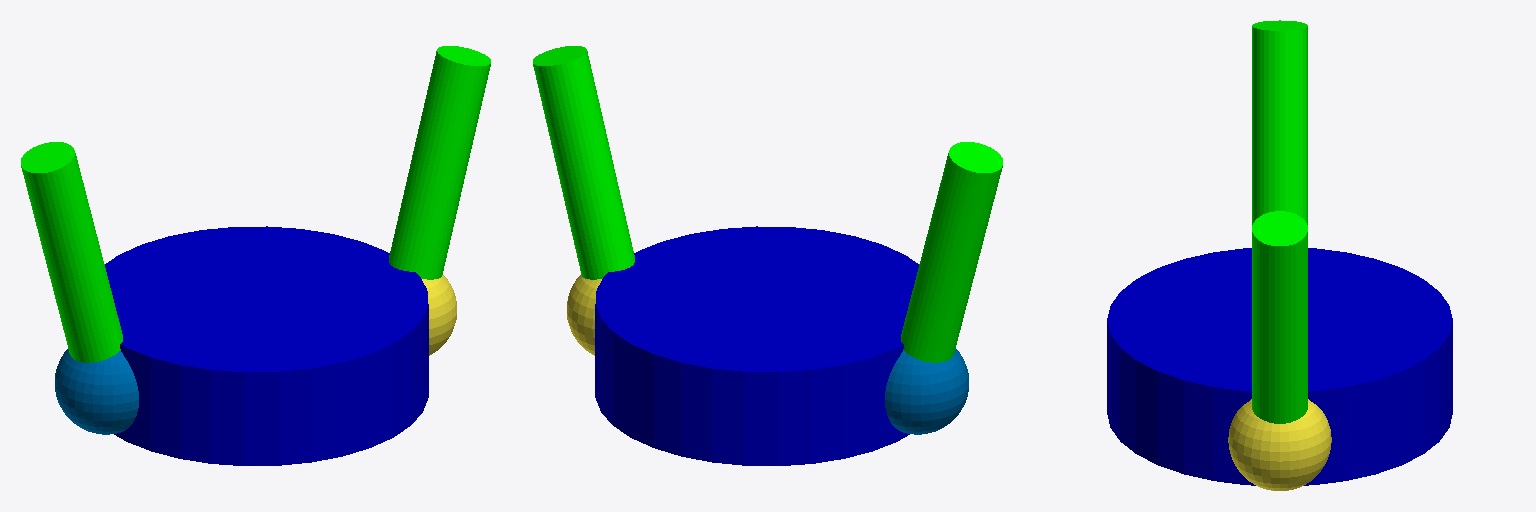
URDF robot description (gripper_2f_1j):
<?xml version='1.0' encoding='UTF-8'?>
<robot name="gripper_2f_1j">
  <link name="palm">
    <inertial>
      <origin xyz="0.0 0.0 0.0" rpy="0.0 -0.0 0.0"/>
      <mass value="1.0"/>
      <inertia ixx="1.0" ixy="0.0" ixz="0.0" iyy="1.0" iyz="0.0" izz="1.0"/>
    </inertial>
    <visual>
      <geometry>
        <cylinder radius="0.05" length="0.03"/>
      </geometry>
      <material name="blue"/>
      <origin xyz="0.0 0.0 0.0" rpy="0.0 -0.0 0.0"/>
    </visual>
    <collision>
      <geometry>
        <cylinder radius="0.05" length="0.03"/>
      </geometry>
      <origin xyz="0.0 0.0 0.0" rpy="0.0 0.0 0.0"/>
    </collision>
  </link>
  <link name="f11">
    <inertial>
      <origin xyz="0.0 0.0 0.0" rpy="0.0 -0.0 0.0"/>
      <mass value="1.0"/>
      <inertia ixx="1.0" ixy="0.0" ixz="0.0" iyy="1.0" iyz="0.0" izz="1.0"/>
    </inertial>
    <visual>
      <geometry>
        <cylinder radius="0.008106774049304117" length="0.07892180755967929"/>
      </geometry>
      <material name="green"/>
      <origin xyz="0.0 0.0 0.03946090377983964" rpy="0.0 -0.0 0.0"/>
    </visual>
    <collision>
      <geometry>
        <cylinder radius="0.008106774049304117" length="0.07892180755967929"/>
      </geometry>
      <origin xyz="0.0 0.0 0.05" rpy="0.0 0.0 0.0"/>
    </collision>
  </link>
  <link name="f21">
    <inertial>
      <origin xyz="0.0 0.0 0.0" rpy="0.0 -0.0 0.0"/>
      <mass value="1.0"/>
      <inertia ixx="1.0" ixy="0.0" ixz="0.0" iyy="1.0" iyz="0.0" izz="1.0"/>
    </inertial>
    <visual>
      <geometry>
        <cylinder radius="0.008106774049304117" length="0.07892180755967929"/>
      </geometry>
      <material name="green"/>
      <origin xyz="0.0 0.0 0.03946090377983964" rpy="0.0 -0.0 0.0"/>
    </visual>
    <collision>
      <geometry>
        <cylinder radius="0.008106774049304117" length="0.07892180755967929"/>
      </geometry>
      <origin xyz="0.0 0.0 0.05" rpy="0.0 0.0 0.0"/>
    </collision>
  </link>
  <link name="f11_base">
    <inertial>
      <origin xyz="0.0 0.0 0.0" rpy="0.0 -0.0 0.0"/>
      <mass value="1.0"/>
      <inertia ixx="1.0" ixy="0.0" ixz="0.0" iyy="1.0" iyz="0.0" izz="1.0"/>
    </inertial>
    <visual>
      <geometry>
        <sphere radius="0.015"/>
      </geometry>
      <origin xyz="0.0 0.0 0.0" rpy="0.0 -0.0 0.0"/>
    </visual>
  </link>
  <link name="f21_base">
    <inertial>
      <origin xyz="0.0 0.0 0.0" rpy="0.0 -0.0 0.0"/>
      <mass value="1.0"/>
      <inertia ixx="1.0" ixy="0.0" ixz="0.0" iyy="1.0" iyz="0.0" izz="1.0"/>
    </inertial>
    <visual>
      <geometry>
        <sphere radius="0.015"/>
      </geometry>
      <origin xyz="0.0 0.0 0.0" rpy="0.0 -0.0 0.0"/>
    </visual>
  </link>
  <joint name="f11_joint" type="revolute">
    <dynamics damping="100.0" friction="1.0"/>
    <limit effort="30.0" velocity="2.0" lower="-0.6" upper="0.25"/>
    <parent link="f11_base"/>
    <child link="f11"/>
    <axis xyz="0. 1. 0."/>
    <origin xyz="0.0 0.0 0.0" rpy="0.0 0.25 0.0"/>
  </joint>
  <joint name="f21_joint" type="revolute">
    <dynamics damping="100.0" friction="1.0"/>
    <limit effort="30.0" velocity="2.0" lower="-0.6" upper="0.25"/>
    <parent link="f21_base"/>
    <child link="f21"/>
    <axis xyz=" 0. -1.  0."/>
    <origin xyz="0.0 0.0 0.0" rpy="0.0 -0.25 0.0"/>
  </joint>
  <joint name="f11_base_joint" type="fixed">
    <parent link="palm"/>
    <child link="f11_base"/>
    <axis xyz="1. 0. 0."/>
    <origin xyz="0.05 0.0 0.0" rpy="0.0 0.0 0.0"/>
  </joint>
  <joint name="f21_base_joint" type="fixed">
    <parent link="palm"/>
    <child link="f21_base"/>
    <axis xyz="1. 0. 0."/>
    <origin xyz="-0.05 -0.0 0.0" rpy="0.0 0.0 0.0"/>
  </joint>
  <material name="blue">
    <color rgba="0.  0.  0.8 1. "/>
  </material>
  <material name="green">
    <color rgba="0. 1. 0. 1."/>
  </material>
</robot>

--- Facts derived from the render (not from the file) ---
3 views of the same robot in one strip: view 1: azimuth 30°, elevation 25°; view 2: azimuth 150°, elevation 25°; view 3: azimuth 270°, elevation 25° (orthographic).
Model gripper_2f_1j with 5 links and 4 joints (2 revolute, 2 fixed), rooted at palm, posed all joints at 0.
Visible links, largest first — view 1: palm, f11, f21, f21_base, f11_base; view 2: palm, f11, f21, f21_base, f11_base; view 3: palm, f11, f21, f11_base.
Boxes of the visible links, bbox=[...] form: palm: bbox=[105, 226, 428, 465]; f11: bbox=[389, 46, 490, 279]; f21: bbox=[21, 142, 122, 362]; f21_base: bbox=[55, 349, 138, 434]; f11_base: bbox=[422, 275, 456, 355]; palm: bbox=[595, 226, 918, 465]; f11: bbox=[533, 46, 634, 279]; f21: bbox=[901, 142, 1002, 362]; f21_base: bbox=[885, 349, 968, 434]; f11_base: bbox=[567, 275, 601, 355]; palm: bbox=[1107, 248, 1452, 485]; f11: bbox=[1252, 211, 1307, 423]; f21: bbox=[1252, 20, 1307, 224]; f11_base: bbox=[1228, 399, 1331, 490].
Size in the robot's own frame: 0.1548 by 0.1 by 0.0935 metres.
Geometry: primitives only (box / cylinder / sphere), no mesh files.